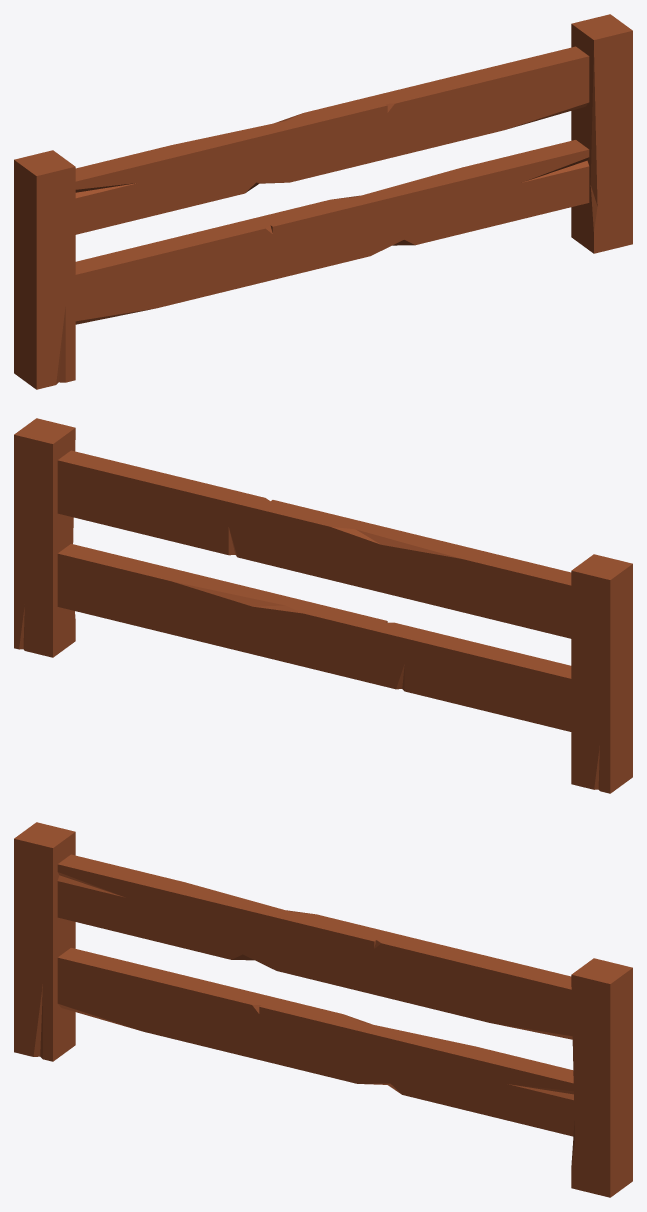
The model's file is Prop_Fantasy_Fence_Timber_Worn_01.FBX.
The picture shows the model from 3 angles, top to bottom: view 1: azimuth 30°, elevation 25°; view 2: azimuth 150°, elevation 25°; view 3: azimuth 330°, elevation 25°; orthographic projection.
Visible parts, largest first — view 1: Prop_Fantasy_Fence_Timber_Worn_01; view 2: Prop_Fantasy_Fence_Timber_Worn_01; view 3: Prop_Fantasy_Fence_Timber_Worn_01.
Part boxes in pixels (<box>): Prop_Fantasy_Fence_Timber_Worn_01: <box>14,14,632,389</box>; Prop_Fantasy_Fence_Timber_Worn_01: <box>14,418,632,793</box>; Prop_Fantasy_Fence_Timber_Worn_01: <box>14,822,632,1197</box>.
Bounding box in the file's own units: 2881 × 986 × 189.
